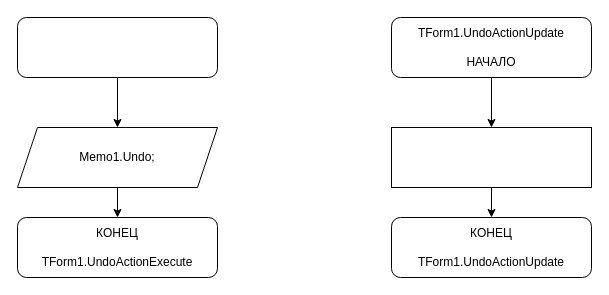
This 609x295 diagram has some shape labels left out. Here are the shapes that lost their labels. From the top down, the box of each, then its label:
(16, 16, 218, 78): TForm1.UndoActionExecute НАЧАЛО
(390, 126, 592, 188): UndoAction.Enabled:= memo1.CanUndo;
